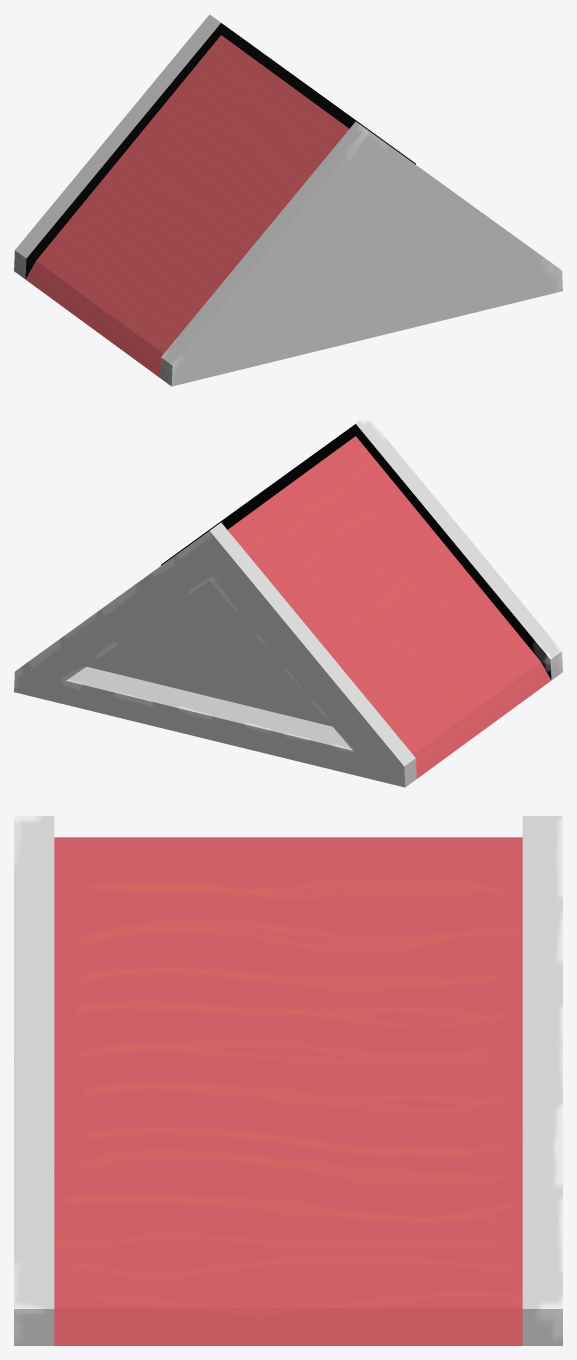
The model's file is roof.fbx.
3 views of the same model, one above another, from view 1: azimuth 30°, elevation 25°; view 2: azimuth 150°, elevation 25°; view 3: azimuth 270°, elevation 25° (orthographic). The views are drawn at different scales.
Parts seen in each view (by area): view 1: Plane.091; view 2: Plane.091; view 3: Plane.091.
Part boxes in pixels (x1,y1,x2,y2): Plane.091: (14,14,562,386); Plane.091: (14,415,562,787); Plane.091: (14,816,562,1345).
Bounding box in the file's own units: 1401 × 715 × 978.
1 material, 1 textured.
